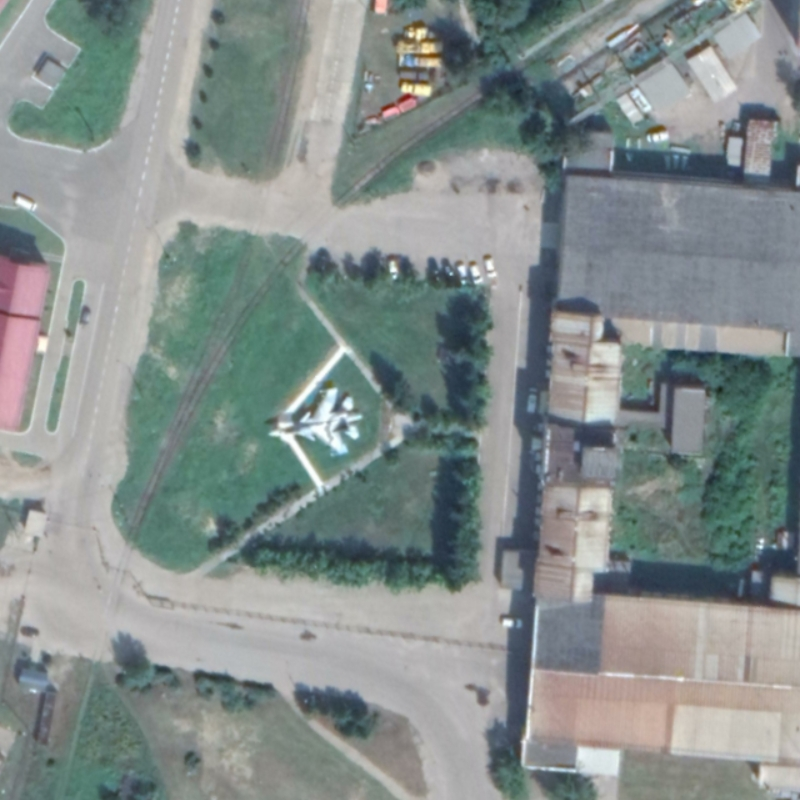A19: (264, 383, 364, 456)
